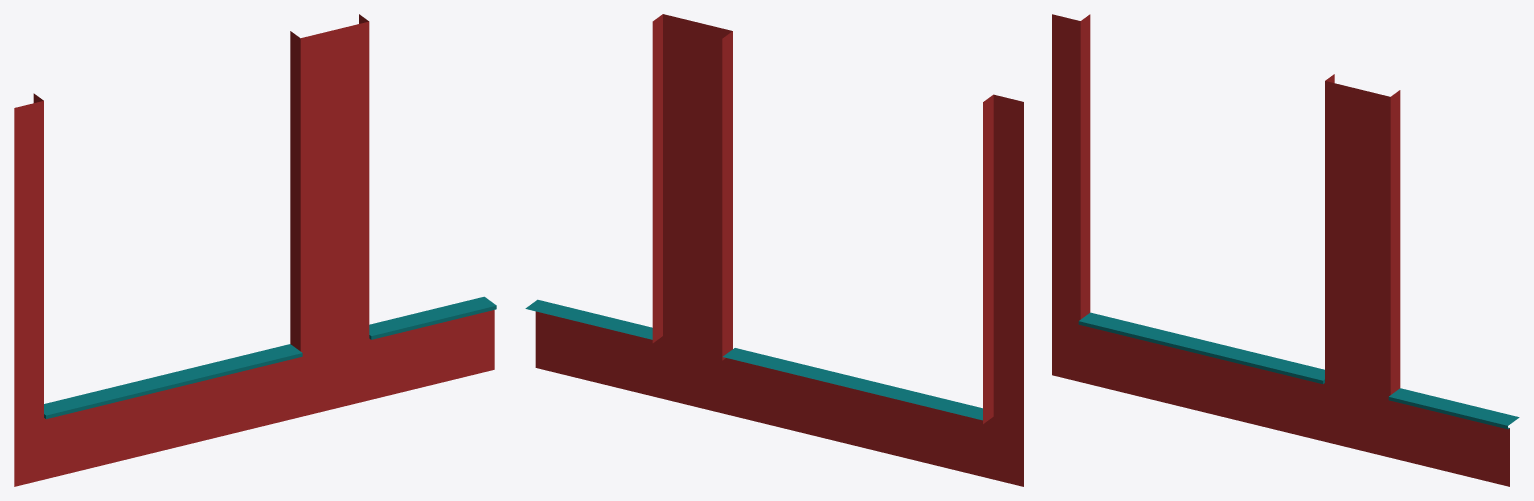
The model's file is SM_Wall_03.fbx.
3 renders of one model, left to right at view 1: azimuth 30°, elevation 25°; view 2: azimuth 150°, elevation 25°; view 3: azimuth 330°, elevation 25°, orthographic. The views are drawn at different scales.
Visible parts, largest first — view 1: SM_Wall_03; view 2: SM_Wall_03; view 3: SM_Wall_03.
Boxes of the visible parts, <box> form: SM_Wall_03: <box>14,14,496,486</box>; SM_Wall_03: <box>525,14,1023,486</box>; SM_Wall_03: <box>1052,14,1519,486</box>.
Size of the model in its own units: 405 by 305 by 18.
